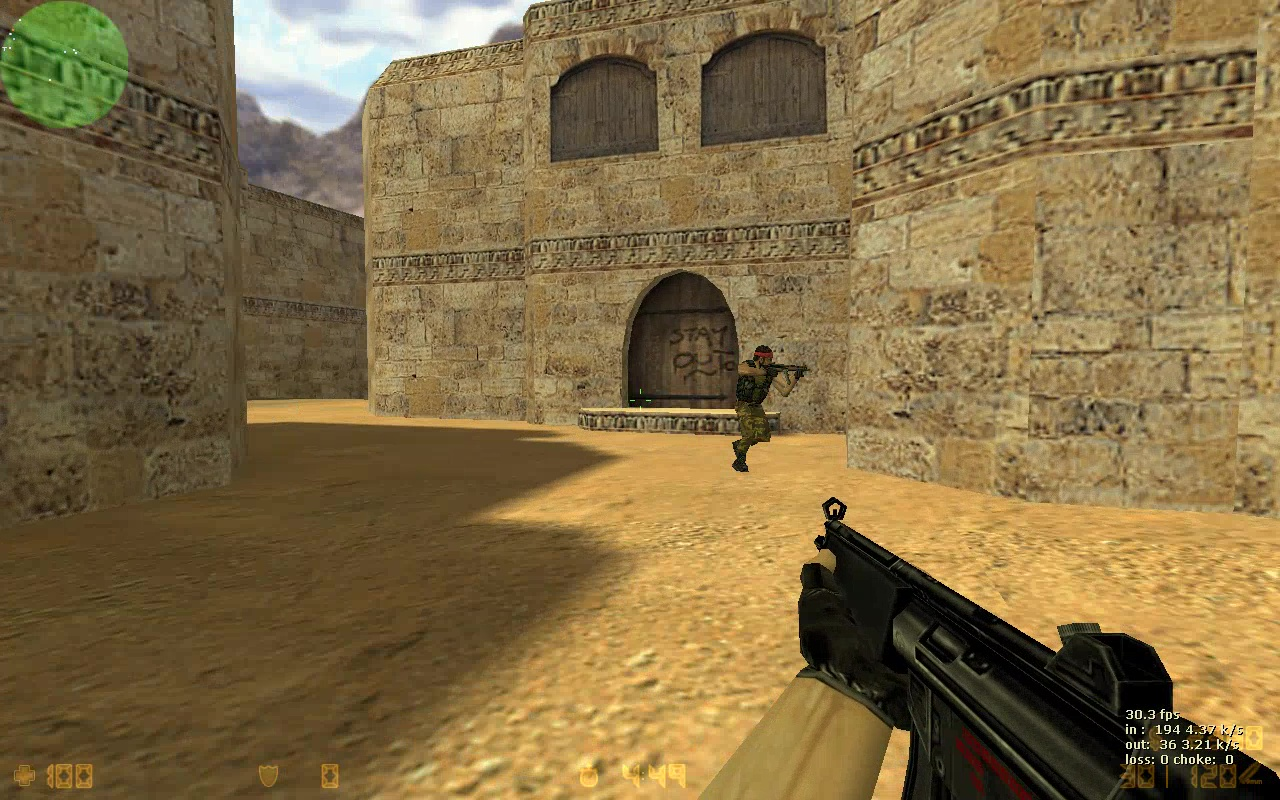terr1: (723, 347, 797, 475)
